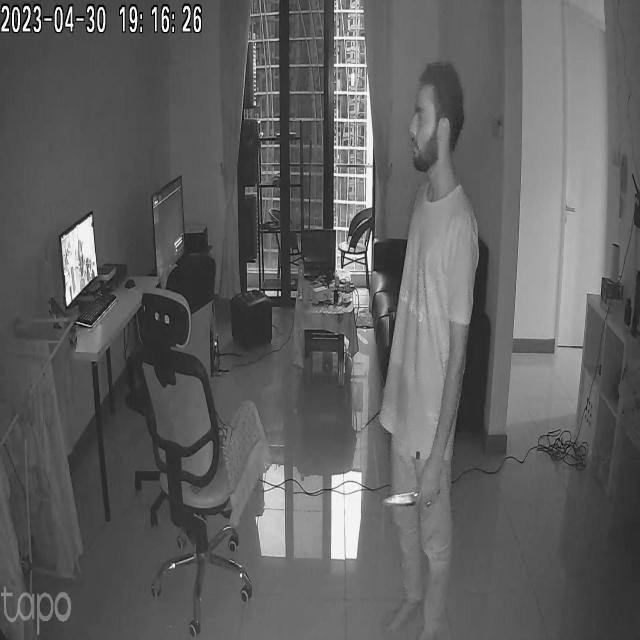Knife: (373, 483, 438, 519)
